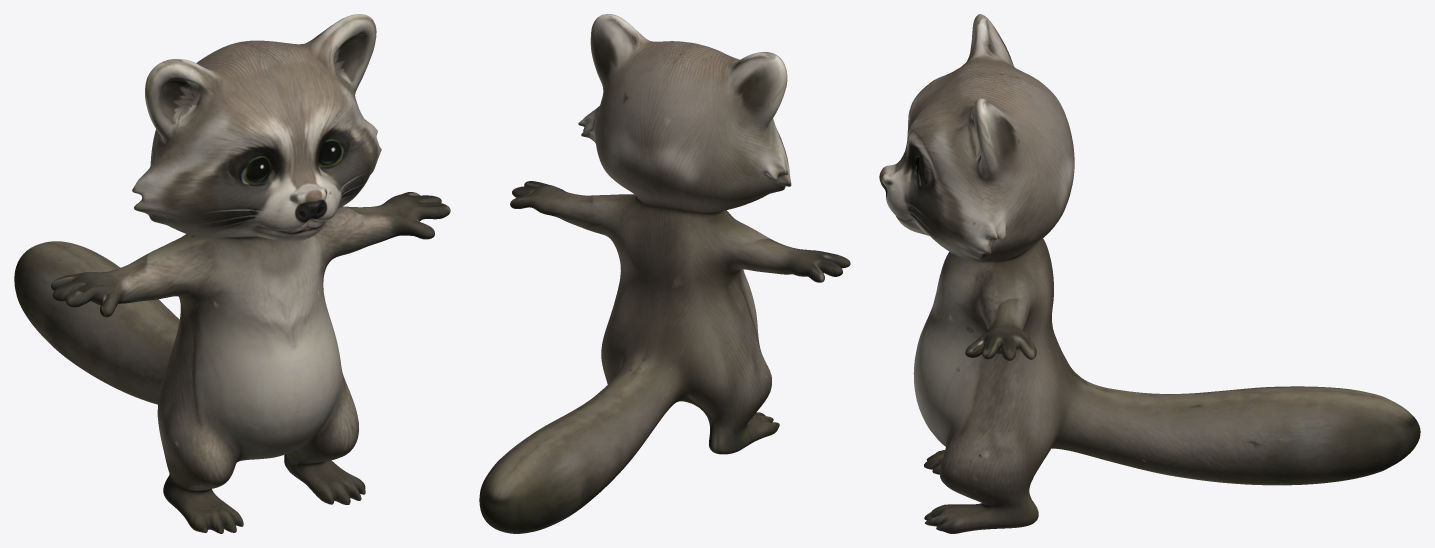
The model's file is Raccoon.glb.
The picture shows the model from 3 angles, left to right: view 1: azimuth 30°, elevation 25°; view 2: azimuth 150°, elevation 25°; view 3: azimuth 270°, elevation 25°; orthographic projection. The views are drawn at different scales.
Size of the model in its own units: 1.57 by 1.78 by 2.
1 material, 1 textured.
